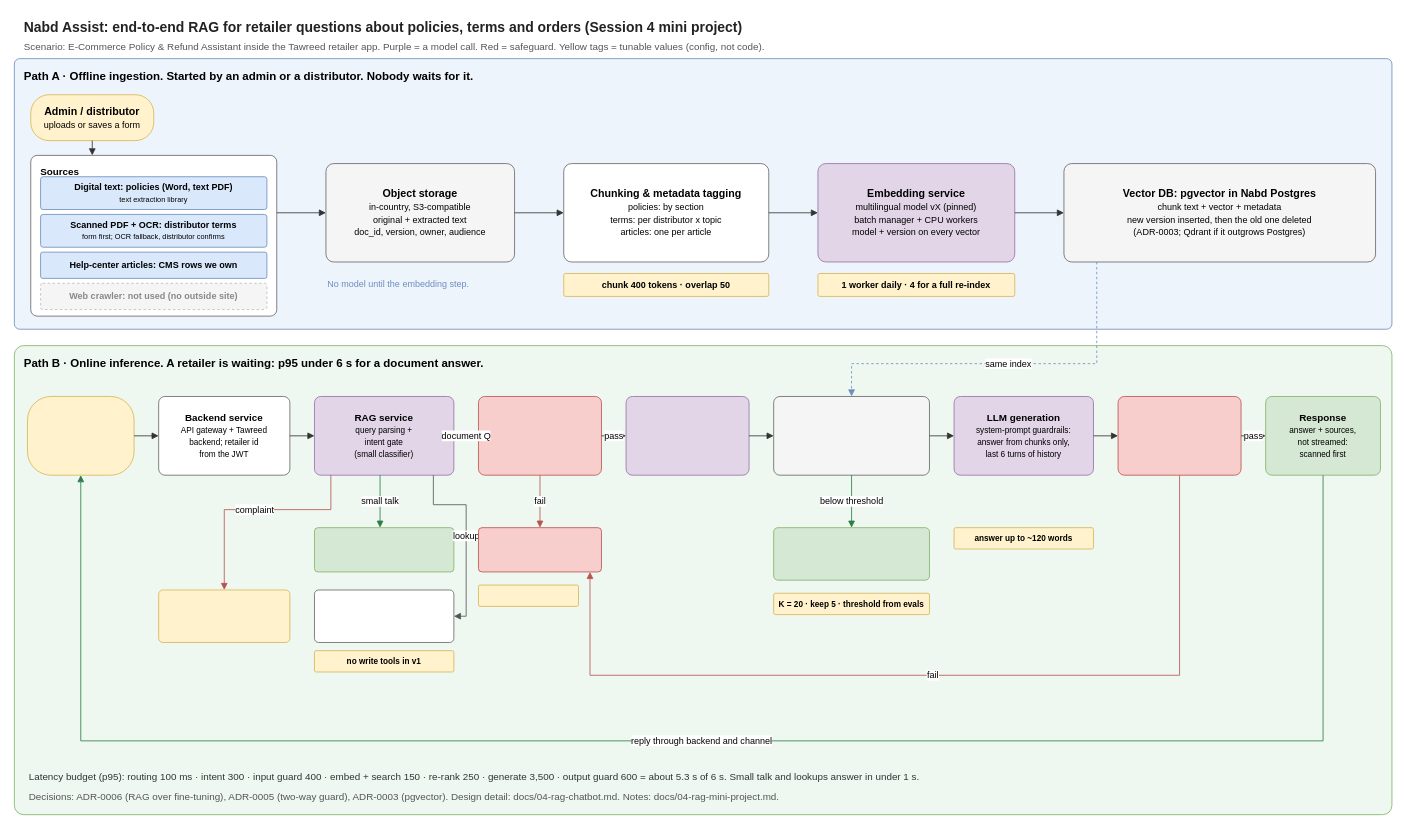
Some shapes in this 1406 by 829 pixel diagram are drawn without their labels. Each missing label, with the centre of its shape:
"Blocked fixed reply, logged" belongs at [539,549].
"Fallback below threshold: say I don't know, link best article, offer support" belongs at [851,553].
"Fixed reply small talk, off-topic" belongs at [384,549].
"Human handoff complaint, legal, payment dispute" belongs at [224,615].
"Input safeguard PII, injection, tool-abuse rules" belongs at [539,435].
"Output safeguard PDPL, tone, numbers must match a source" belongs at [1179,435].
"Query embedding same model vX as Path A" belongs at [687,435].
"Read-only lookup orders, prices, stock retailer id from token" belongs at [384,615].
"Retailer Tawreed app" belongs at [80,435].
"timeout 2 s = block" belongs at [528,595].
"Vector DB top-K 20, filtered to this retailer audience + re-rank, keep 5" belongs at [851,435].
